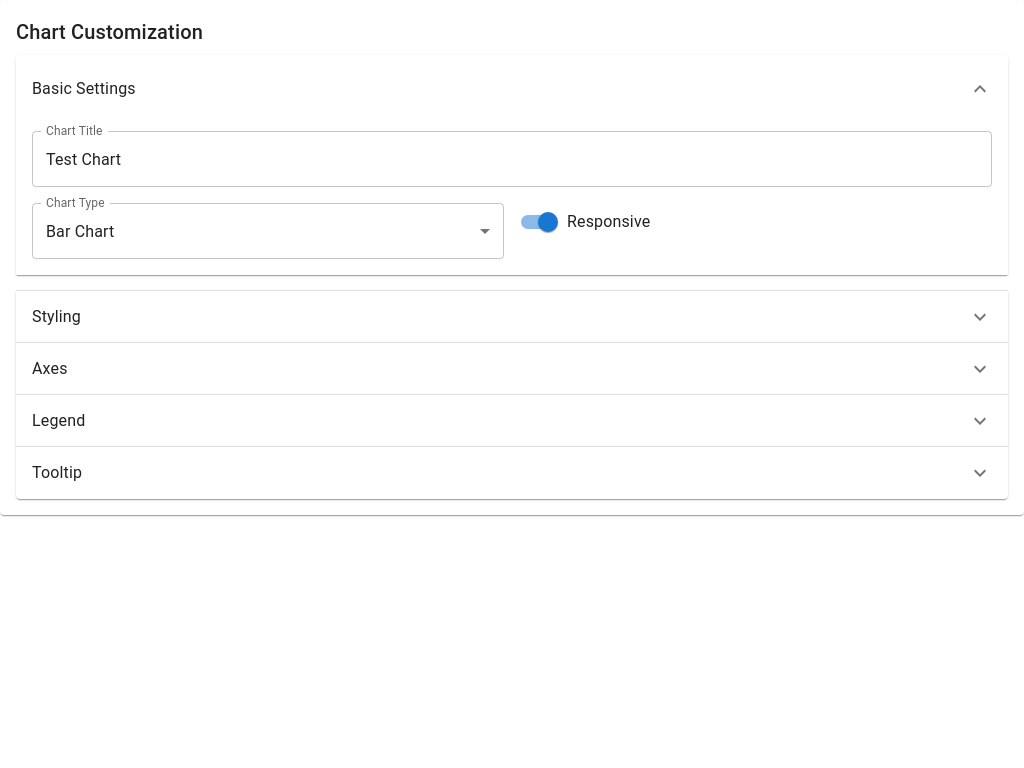
it: ChartCustomizer Component › displays tooltip configuration options
The image size is (1024, 768).
Expand tooltip section
Click the button "Tooltip" at {"x": 57, "y": 472}, box [32, 461, 992, 485]
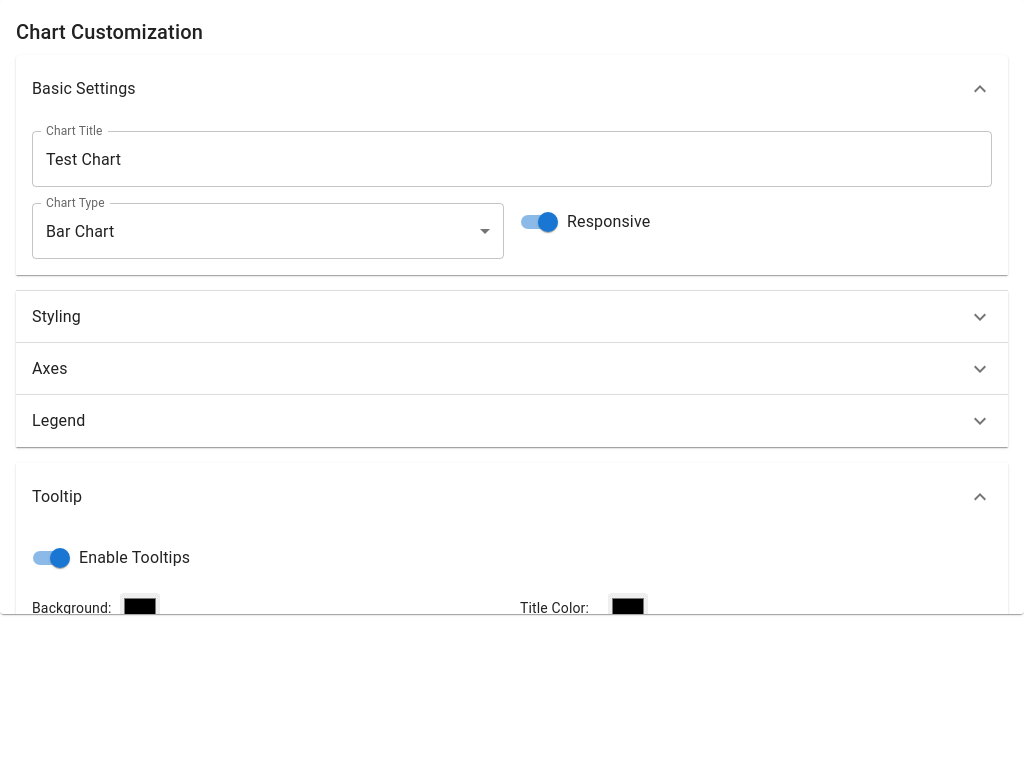
Expected: the checkbox labelled "Enable Tooltips" is shown, [33, 548, 190, 568]
